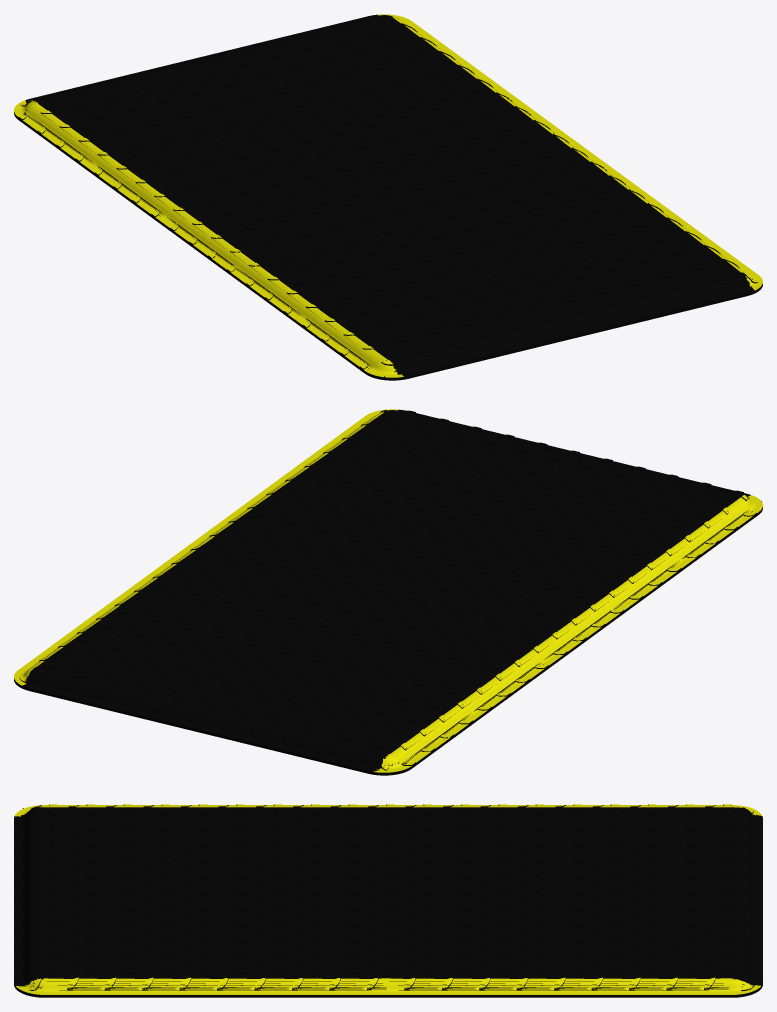
Rendered from Rubber Mat.fbx.
The picture shows the model from 3 angles, top to bottom: view 1: azimuth 30°, elevation 25°; view 2: azimuth 150°, elevation 25°; view 3: azimuth 270°, elevation 25°; orthographic projection.
Parts seen in each view (by area): view 1: Yellow Rubber; view 2: Yellow Rubber; view 3: Yellow Rubber.
Boxes of the visible parts, x1,y1,x2,y2 form: Yellow Rubber: [14, 14, 762, 380]; Yellow Rubber: [14, 409, 762, 775]; Yellow Rubber: [14, 804, 762, 997].
Bounding box in the file's own units: 91.44 × 2.58 × 152.
